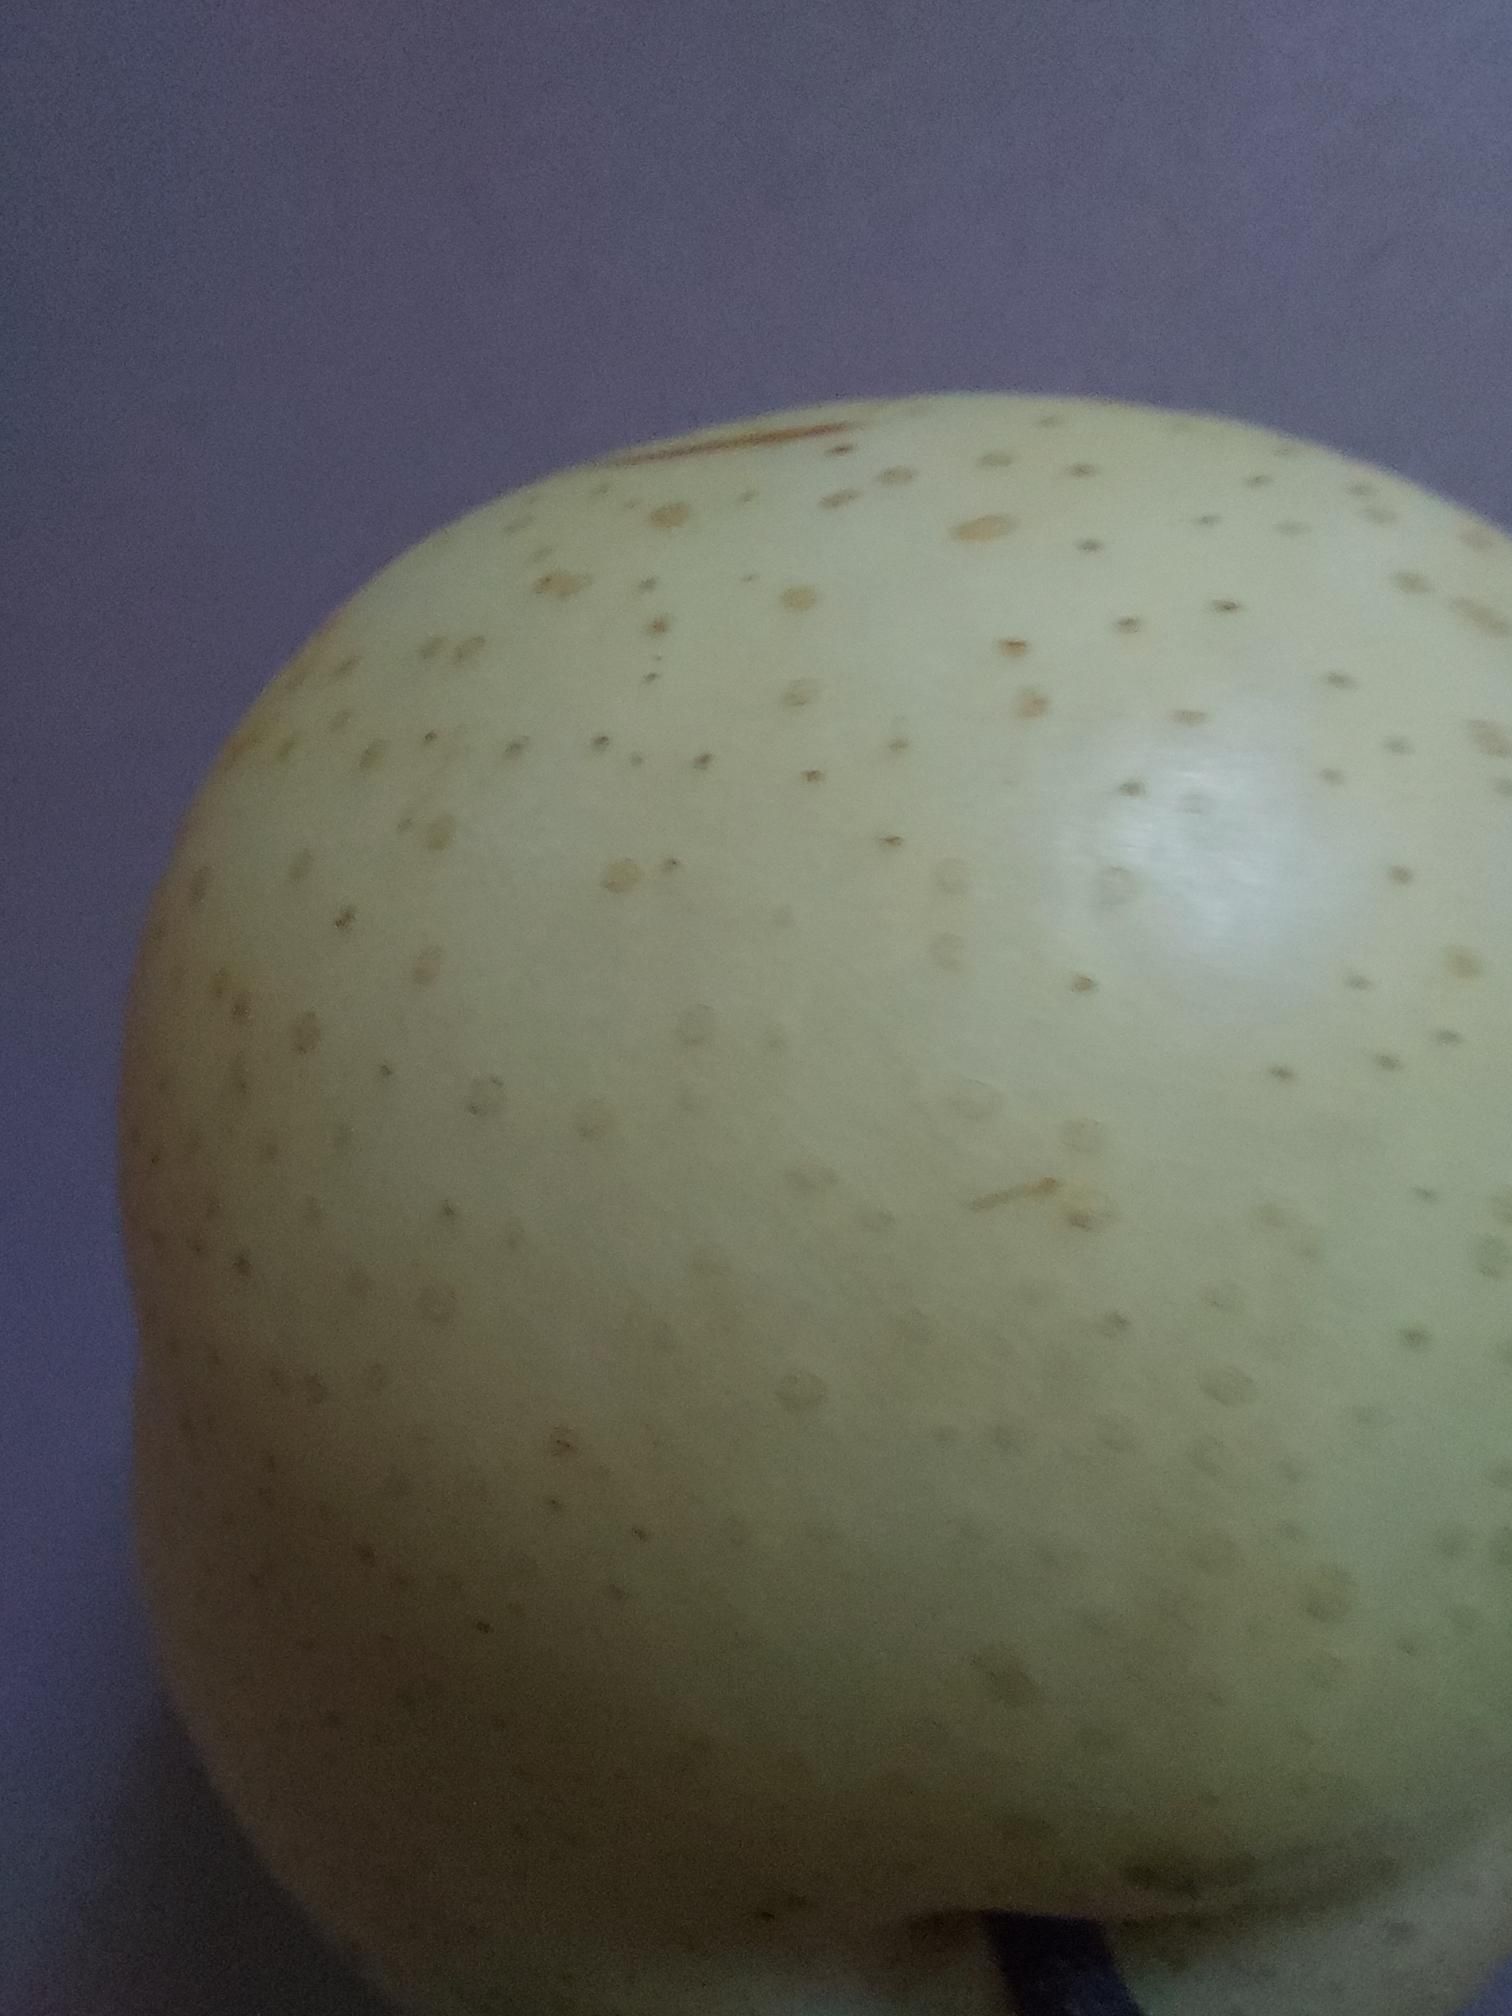Good Pear: (71, 348, 1512, 2016)
